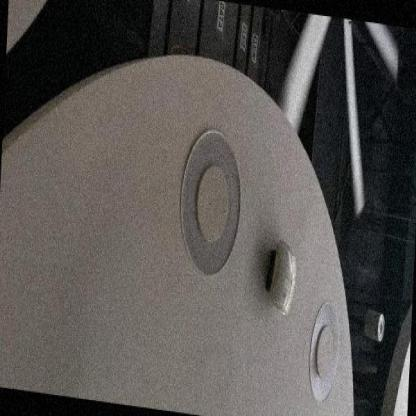light_off: (164, 83, 250, 312)
